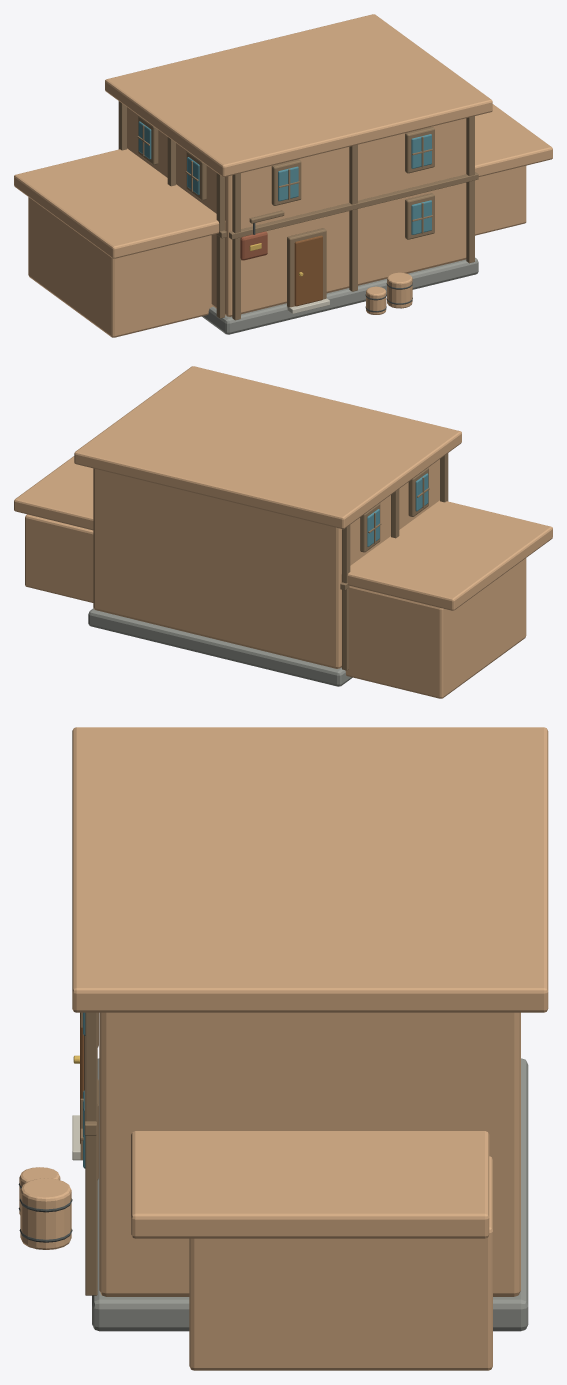
File: arid-inn-1.glb
3 views of the same model, one above another, from view 1: azimuth 30°, elevation 25°; view 2: azimuth 150°, elevation 25°; view 3: azimuth 270°, elevation 25° (orthographic). The views are drawn at different scales.
Visible parts, largest first — view 1: Adobe cream, Adobe fieldstone, Palm beams, Adobe wood, Foundation stone, Blue glass, Door oak, Painted sign; view 2: Adobe cream, Adobe fieldstone, Adobe wood, Foundation stone, Palm beams, Blue glass; view 3: Adobe cream, Adobe wood, Foundation stone, Palm beams.
Boxes of the visible parts, left/top/right/bottom form: Adobe cream: left=14, top=14, right=552, bottom=316; Adobe fieldstone: left=28, top=197, right=213, bottom=337; Palm beams: left=118, top=101, right=478, bottom=320; Adobe wood: left=366, top=166, right=526, bottom=314; Foundation stone: left=202, top=257, right=478, bottom=334; Blue glass: left=138, top=121, right=431, bottom=234; Door oak: left=294, top=235, right=322, bottom=306; Painted sign: left=240, top=231, right=267, bottom=260; Adobe cream: left=14, top=366, right=552, bottom=668; Adobe fieldstone: left=341, top=558, right=526, bottom=698; Adobe wood: left=25, top=514, right=93, bottom=602; Foundation stone: left=88, top=608, right=352, bottom=686; Palm beams: left=340, top=453, right=448, bottom=670; Blue glass: left=367, top=473, right=428, bottom=546; Adobe cream: left=72, top=727, right=548, bottom=1296; Adobe wood: left=19, top=1156, right=492, bottom=1370; Foundation stone: left=92, top=1058, right=528, bottom=1331; Palm beams: left=80, top=1012, right=98, bottom=1295.
Size of the model in its own units: 8.31 by 3.14 by 4.27.
